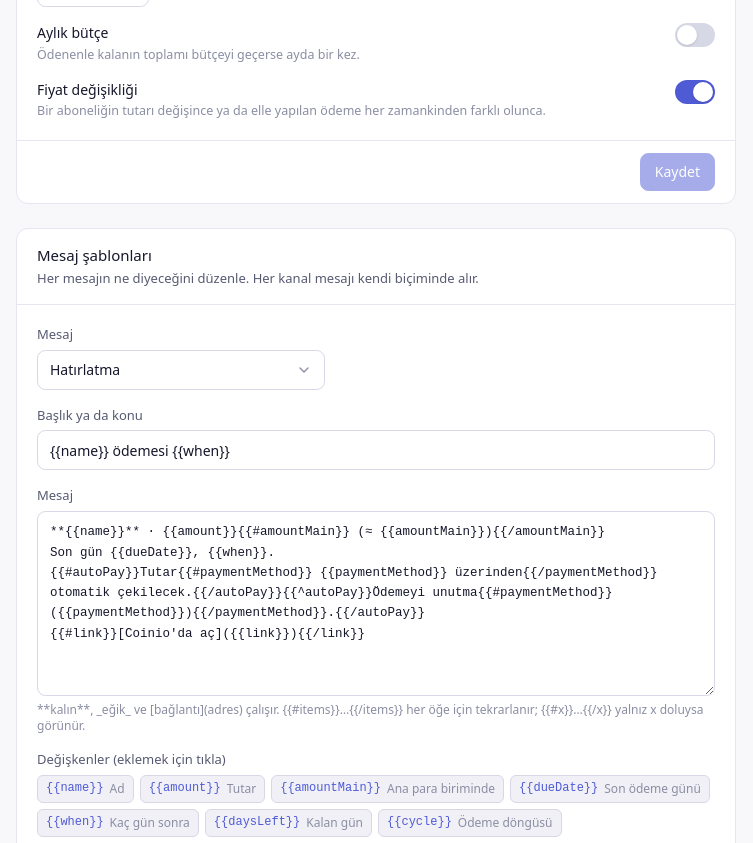
Test case: settings › previews a template with sample data and inserts variables
(page scrolled)
Step 1. Replace the text in the field labelled "Başlık ya da konu" with "Öde: " → x=376, y=450, box left=37, top=430, right=715, bottom=470
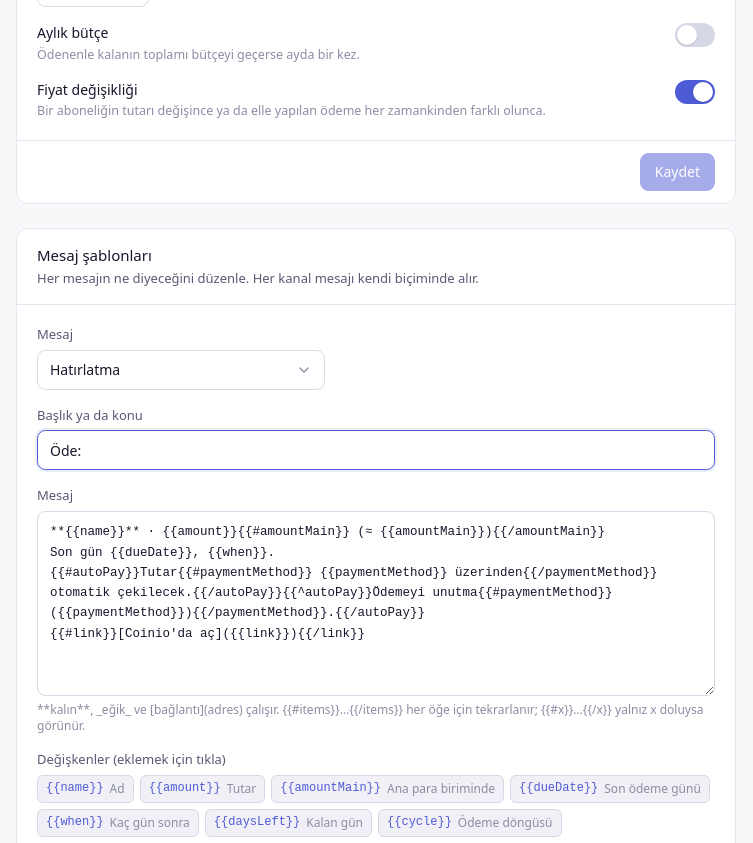
Step 2. Click the button "{{name}} Ad" → x=85, y=788, box left=37, top=774, right=134, bottom=802
(page scrolled)
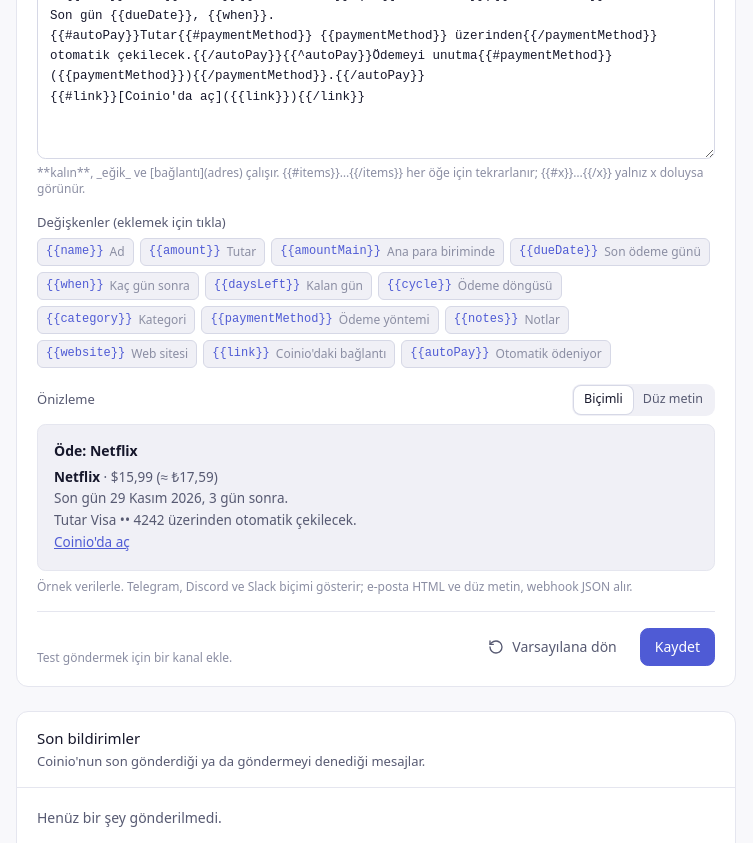
Check: the text "Öde: Netflix" is shown, box left=54, top=440, right=138, bottom=460
